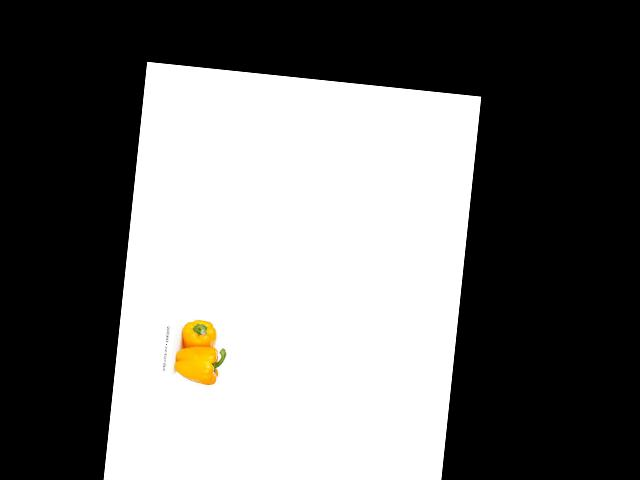bell_pepper: (178, 317, 220, 352)
